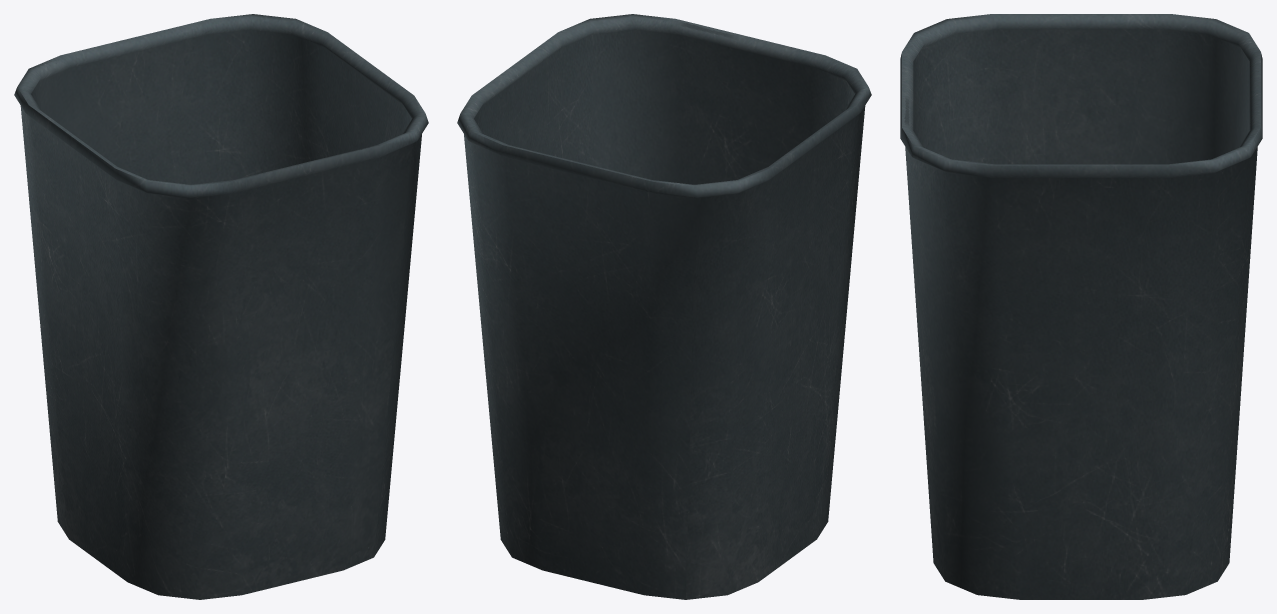
The model's file is bink.glb.
3 views of the same model, side by side, from view 1: azimuth 30°, elevation 25°; view 2: azimuth 150°, elevation 25°; view 3: azimuth 270°, elevation 25° (orthographic). The views are drawn at different scales.
Parts seen in each view (by area): view 1: Cube.004; view 2: Cube.004; view 3: Cube.004.
Part boxes in pixels (x1,y1,x2,y2): Cube.004: (14, 14, 428, 599); Cube.004: (457, 14, 871, 599); Cube.004: (900, 14, 1262, 599).
Bounding box in the file's own units: 0.5991 × 0.8165 × 0.5991.
1 material, 1 textured.
